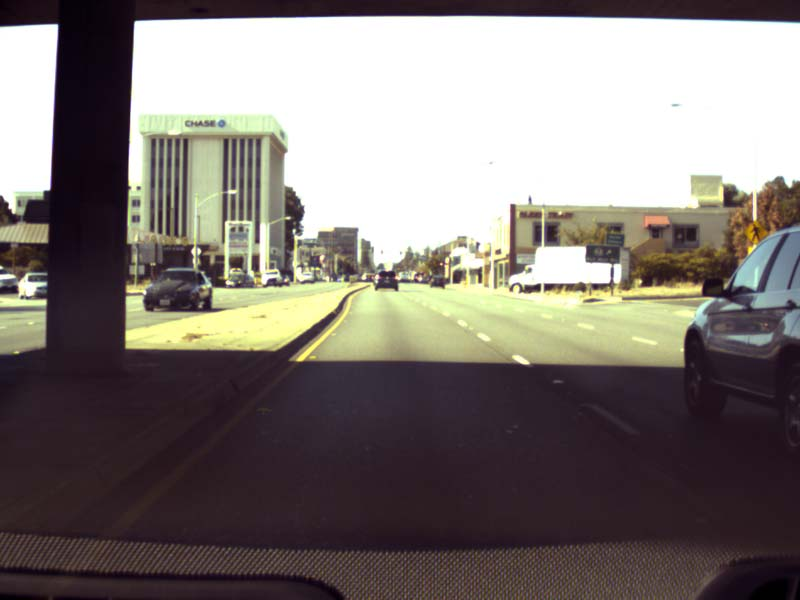Yellow: (438, 262, 442, 267)
